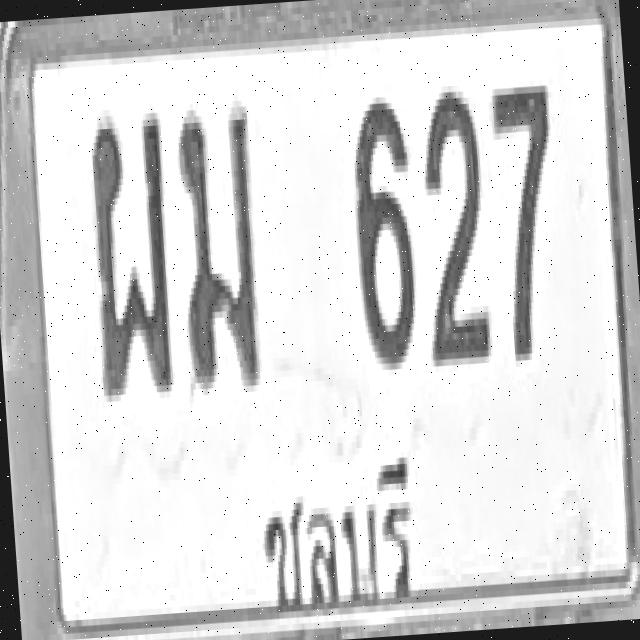2: (413, 87, 492, 363)
37PhorPhueng: (82, 109, 178, 399)
42MorMa: (170, 100, 266, 390)
6: (347, 96, 421, 364)
7: (488, 79, 566, 361)
Chonburi: (244, 429, 418, 616)
